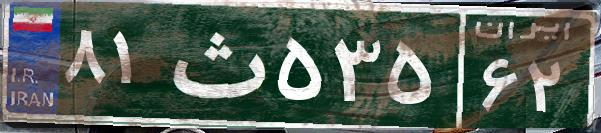1: (110, 28, 158, 105)
2: (525, 38, 570, 115)
3: (330, 28, 385, 110)
5: (385, 28, 445, 110), (273, 28, 330, 110)
6: (475, 38, 525, 113)
8: (57, 26, 110, 107)
ث: (158, 15, 273, 115)
